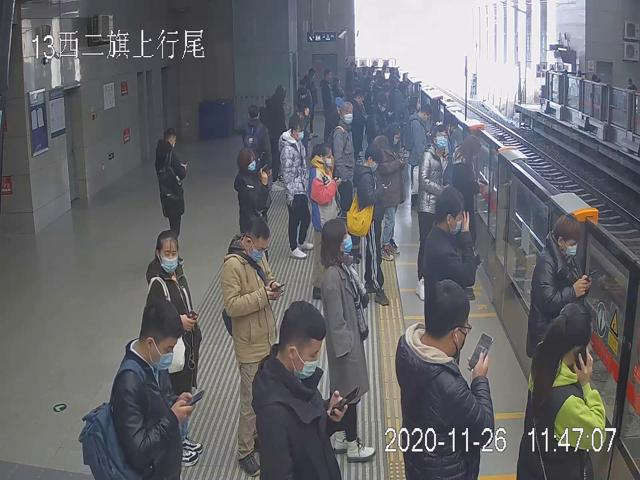person: (394, 280, 494, 480), (252, 300, 344, 480), (516, 300, 607, 480), (222, 216, 282, 475), (321, 218, 381, 463), (115, 294, 194, 480), (146, 228, 205, 468), (525, 213, 592, 369), (422, 184, 478, 340), (353, 144, 391, 306), (416, 126, 450, 298), (277, 113, 314, 262), (309, 142, 343, 301), (155, 126, 188, 266), (234, 145, 271, 262), (376, 121, 406, 262), (329, 100, 355, 216), (407, 102, 433, 209)
